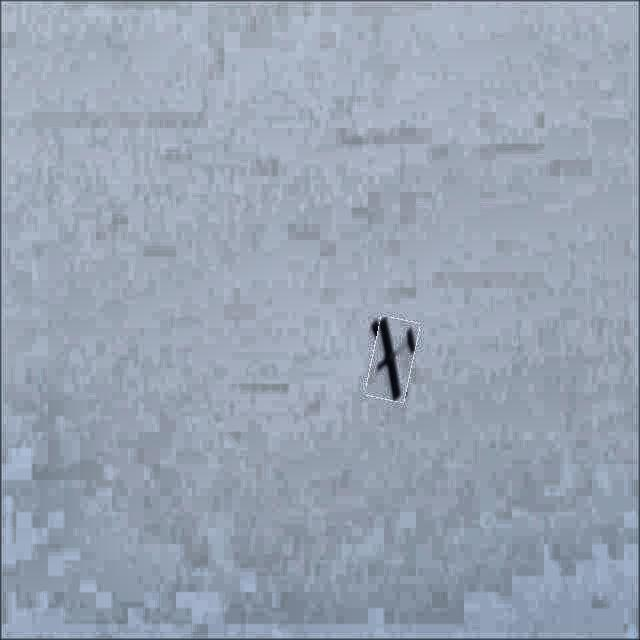iha: (357, 339, 419, 374)
